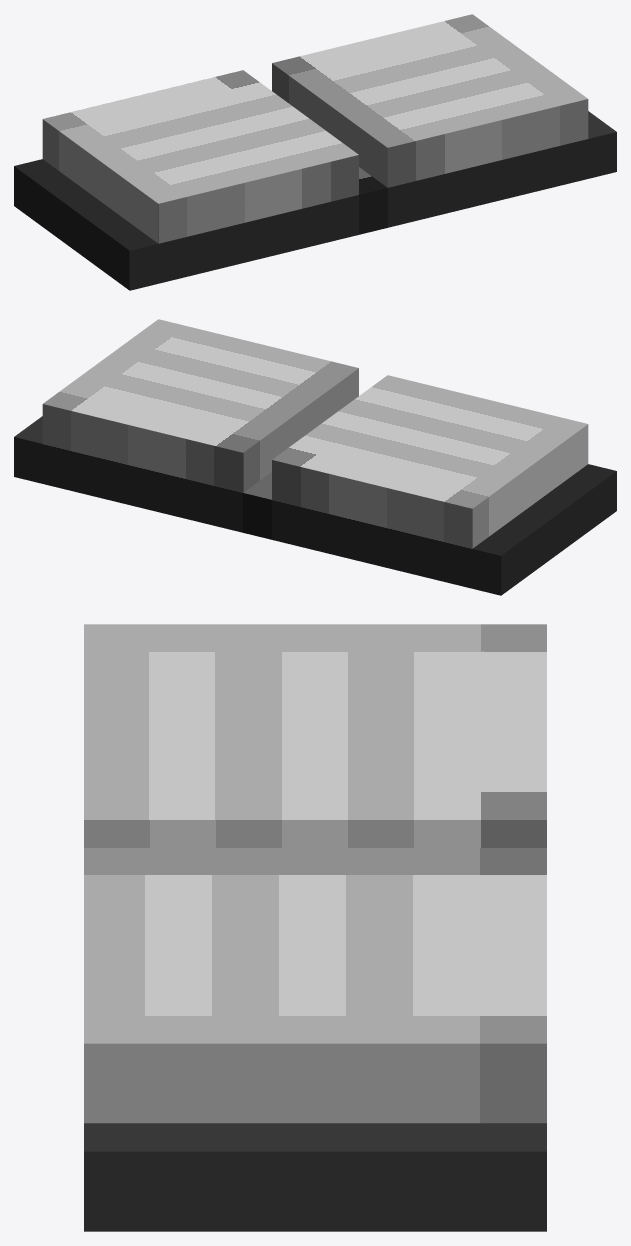
Rendered from book_642x03.obj.
3 views of the same model, one above another, from view 1: azimuth 30°, elevation 25°; view 2: azimuth 150°, elevation 25°; view 3: azimuth 270°, elevation 25° (orthographic). The views are drawn at different scales.
Parts seen in each view (by area): view 1: Cube.001; view 2: Cube.001; view 3: Cube.001.
Boxes of the visible parts, bbox=[...] form: Cube.001: bbox=[14, 14, 616, 290]; Cube.001: bbox=[14, 319, 616, 595]; Cube.001: bbox=[84, 624, 546, 1231].
Bounding box in the file's own units: 2.12 × 0.3333 × 0.875.
